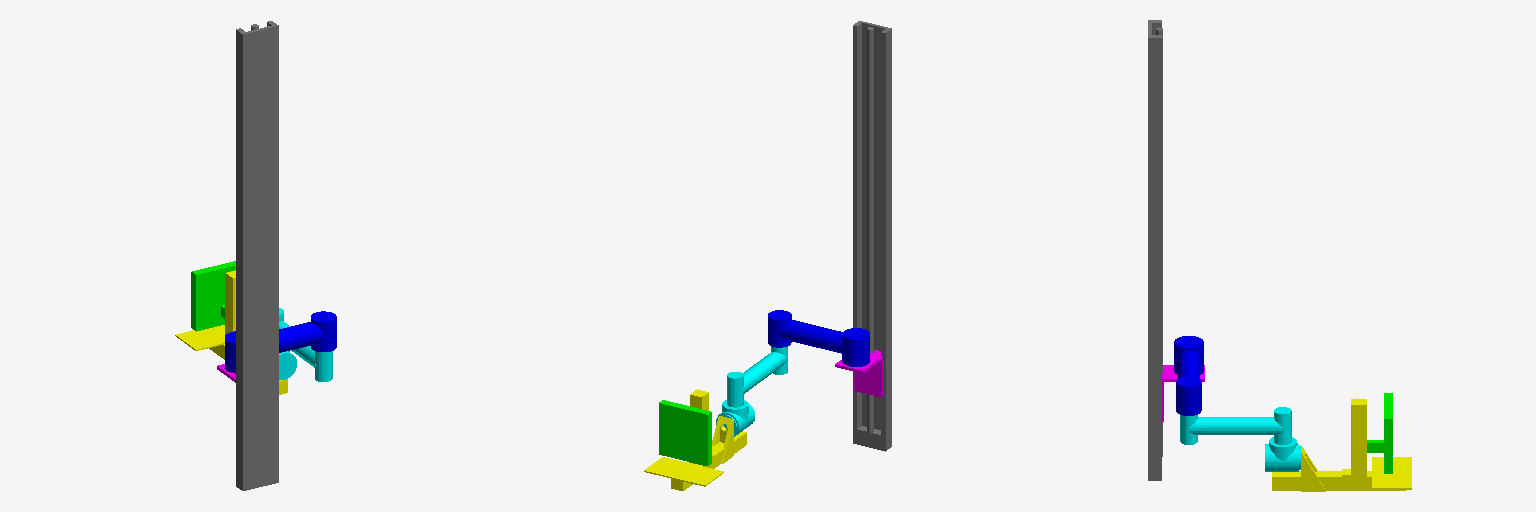
URDF robot description (palletizer):
<?xml version="1.0" encoding="utf-8"?>
<!-- This URDF was automatically created by SolidWorks to URDF Exporter! Originally created by [author] ([email redacted]) 
     Commit Version: 1.5.1-0-g916b5db  Build Version: 1.5.7152.31018
     For more information, please see http://wiki.ros.org/sw_urdf_exporter -->
<robot
  name="palletizer">
  <link
    name="base_link">
    <inertial>
      <origin
        xyz="-1.5354E-14 -0.029385 1.265"
        rpy="0 0 0" />
      <mass
        value="23.744" />
      <inertia
        ixx="14.085"
        ixy="-2.6176E-17"
        ixz="1.0532E-16"
        iyy="14.191"
        iyz="0.011734"
        izz="0.13257" />
    </inertial>
    <visual>
      <origin
        xyz="0 0 0"
        rpy="0 0 0" />
      <geometry>
        <mesh
          filename="package://palletizer/meshes/base_link.STL" />
      </geometry>
      <material
        name="">
        <color
          rgba="0.50196 0.50196 0.50196 1" />
      </material>
    </visual>
    <collision>
      <origin
        xyz="0 0 0"
        rpy="0 0 0" />
      <geometry>
        <mesh
          filename="package://palletizer/meshes/base_link.STL" />
      </geometry>
    </collision>
  </link>
  <link
    name="Link1">
    <inertial>
      <origin
        xyz="1.1082E-17 -0.13376 -0.084234"
        rpy="0 0 0" />
      <mass
        value="3.2712" />
      <inertia
        ixx="0.035893"
        ixy="-4.9727E-18"
        ixz="-2.6146E-19"
        iyy="0.031004"
        iyz="-0.0090466"
        izz="0.023554" />
    </inertial>
    <visual>
      <origin
        xyz="0 0 0"
        rpy="0 0 0" />
      <geometry>
        <mesh
          filename="package://palletizer/meshes/Link1.STL" />
      </geometry>
      <material
        name="">
        <color
          rgba="1 0 1 1" />
      </material>
    </visual>
    <collision>
      <origin
        xyz="0 0 0"
        rpy="0 0 0" />
      <geometry>
        <mesh
          filename="package://palletizer/meshes/Link1.STL" />
      </geometry>
    </collision>
  </link>
  <joint
    name="Joint1"
    type="prismatic">
    <origin
      xyz="0 0.157 0.572"
      rpy="0 0 0" />
    <parent
      link="base_link" />
    <child
      link="Link1" />
    <axis
      xyz="0 0 1" />
    <limit
      lower="-0.24"
      upper="2.7"
      effort="10000"
      velocity="10000" />
  </joint>
  <link
    name="Link2">
    <inertial>
      <origin
        xyz="0.23082 1.3971E-07 -0.081969"
        rpy="0 0 0" />
      <mass
        value="9.9845" />
      <inertia
        ixx="0.030065"
        ixy="-2.7334E-08"
        ixz="-0.00089423"
        iyy="0.43418"
        iyz="1.1355E-07"
        izz="0.42808" />
    </inertial>
    <visual>
      <origin
        xyz="0 0 0"
        rpy="0 0 0" />
      <geometry>
        <mesh
          filename="package://palletizer/meshes/Link2.STL" />
      </geometry>
      <material
        name="">
        <color
          rgba="0 0 1 1" />
      </material>
    </visual>
    <collision>
      <origin
        xyz="0 0 0"
        rpy="0 0 0" />
      <geometry>
        <mesh
          filename="package://palletizer/meshes/Link2.STL" />
      </geometry>
    </collision>
  </link>
  <joint
    name="Joint2"
    type="revolute">
    <origin
      xyz="0 0 0.193"
      rpy="0 0 0" />
    <parent
      link="Link1" />
    <child
      link="Link2" />
    <axis
      xyz="0 0 1" />
    <limit
      lower="-1"
      upper="4.5"
      effort="10000"
      velocity="10000" />
  </joint>
  <link
    name="Link3">
    <inertial>
      <origin
        xyz="-1.3922E-06 0.25 0.090633"
        rpy="0 0 0" />
      <mass
        value="5.825" />
      <inertia
        ixx="0.21651"
        ixy="-4.1151E-08"
        ixz="1.9765E-08"
        iyy="0.01238"
        iyz="-2.2943E-08"
        izz="0.21124" />
    </inertial>
    <visual>
      <origin
        xyz="0 0 0"
        rpy="0 0 0" />
      <geometry>
        <mesh
          filename="package://palletizer/meshes/Link3.STL" />
      </geometry>
      <material
        name="">
        <color
          rgba="0 1 1 1" />
      </material>
    </visual>
    <collision>
      <origin
        xyz="0 0 0"
        rpy="0 0 0" />
      <geometry>
        <mesh
          filename="package://palletizer/meshes/Link3.STL" />
      </geometry>
    </collision>
  </link>
  <joint
    name="Joint3"
    type="revolute">
    <origin
      xyz="0.5 0 -0.3513"
      rpy="0 0 0" />
    <parent
      link="Link2" />
    <child
      link="Link3" />
    <axis
      xyz="0 0 1" />
    <limit
      lower="-5"
      upper="2.5"
      effort="10000"
      velocity="10000" />
  </joint>
  <link
    name="Link4">
    <inertial>
      <origin
        xyz="3.2259E-07 2.542E-05 -0.08553"
        rpy="0 0 0" />
      <mass
        value="3.9922" />
      <inertia
        ixx="0.019006"
        ixy="3.184E-07"
        ixz="1.9269E-07"
        iyy="0.013834"
        iyz="1.0629E-06"
        izz="0.017104" />
    </inertial>
    <visual>
      <origin
        xyz="0 0 0"
        rpy="0 0 0" />
      <geometry>
        <mesh
          filename="package://palletizer/meshes/Link4.STL" />
      </geometry>
      <material
        name="">
        <color
          rgba="0 1 1 1" />
      </material>
    </visual>
    <collision>
      <origin
        xyz="0 0 0"
        rpy="0 0 0" />
      <geometry>
        <mesh
          filename="package://palletizer/meshes/Link4.STL" />
      </geometry>
    </collision>
  </link>
  <joint
    name="Joint4"
    type="revolute">
    <origin
      xyz="0 0.5 0"
      rpy="0 0 0" />
    <parent
      link="Link3" />
    <child
      link="Link4" />
    <axis
      xyz="0 0 1" />
    <limit
      lower="-3.14"
      upper="3.14"
      effort="10000"
      velocity="10000" />
  </joint>
  <link
    name="Link5">
    <inertial>
      <origin
        xyz="5.003E-08 0.40817 -0.1225"
        rpy="0 0 0" />
      <mass
        value="5.8533" />
      <inertia
        ixx="0.27504"
        ixy="4.3397E-08"
        ixz="-3.2907E-08"
        iyy="0.019709"
        iyz="-8.2924E-05"
        izz="0.28021" />
    </inertial>
    <visual>
      <origin
        xyz="0 0 0"
        rpy="0 0 0" />
      <geometry>
        <mesh
          filename="package://palletizer/meshes/Link5.STL" />
      </geometry>
      <material
        name="">
        <color
          rgba="1 1 0 1" />
      </material>
    </visual>
    <collision>
      <origin
        xyz="0 0 0"
        rpy="0 0 0" />
      <geometry>
        <mesh
          filename="package://palletizer/meshes/Link5.STL" />
      </geometry>
    </collision>
  </link>
  <joint
    name="Joint5"
    type="revolute">
    <origin
      xyz="0 -0.0953 -0.096"
      rpy="0 0 0" />
    <parent
      link="Link4" />
    <child
      link="Link5" />
    <axis
      xyz="0 -1 0" />
    <limit
      lower="-3.14"
      upper="3.14"
      effort="10000"
      velocity="10000" />
  </joint>
  <link
    name="Link6">
    <inertial>
      <origin
        xyz="0 -0.00067297 -0.21469"
        rpy="0 0 0" />
      <mass
        value="2.752" />
      <inertia
        ixx="0.043711"
        ixy="-2.0832E-19"
        ixz="-8.4228E-19"
        iyy="0.043534"
        iyz="-0.00038554"
        izz="0.0031127" />
    </inertial>
    <visual>
      <origin
        xyz="0 0 0"
        rpy="0 0 0" />
      <geometry>
        <mesh
          filename="package://palletizer/meshes/Link6.STL" />
      </geometry>
      <material
        name="">
        <color
          rgba="1 1 0 1" />
      </material>
    </visual>
    <collision>
      <origin
        xyz="0 0 0"
        rpy="0 0 0" />
      <geometry>
        <mesh
          filename="package://palletizer/meshes/Link6.STL" />
      </geometry>
    </collision>
  </link>
  <joint
    name="Joint6"
    type="prismatic">
    <origin
      xyz="0 0.50055 0.326"
      rpy="0 0 0" />
    <parent
      link="Link5" />
    <child
      link="Link6" />
    <axis
      xyz="0 1 0" />
    <limit
      lower="-0.1874"
      upper="0.1874"
      effort="10000"
      velocity="10000" />
  </joint>
  <link
    name="Link7">
    <inertial>
      <origin
        xyz="-5.5511E-17 -0.0022501 -0.16289"
        rpy="0 0 0" />
      <mass
        value="5.3195" />
      <inertia
        ixx="0.047249"
        ixy="5.6013E-18"
        ixz="-1.2454E-17"
        iyy="0.089478"
        iyz="-0.00088103"
        izz="0.046275" />
    </inertial>
    <visual>
      <origin
        xyz="0 0 0"
        rpy="0 0 0" />
      <geometry>
        <mesh
          filename="package://palletizer/meshes/Link7.STL" />
      </geometry>
      <material
        name="">
        <color
          rgba="0 1 0 1" />
      </material>
    </visual>
    <collision>
      <origin
        xyz="0 0 0"
        rpy="0 0 0" />
      <geometry>
        <mesh
          filename="package://palletizer/meshes/Link7.STL" />
      </geometry>
    </collision>
  </link>
  <joint
    name="Joint7"
    type="prismatic">
    <origin
      xyz="0 0.158 -0.023"
      rpy="0 0 0" />
    <parent
      link="Link6" />
    <child
      link="Link7" />
    <axis
      xyz="0 0 1" />
    <limit
      lower="-0.0875"
      upper="0.0875"
      effort="10000"
      velocity="10000" />
  </joint>

<link name="dummy"> 
</link>
<joint name="dummy_joint" type="fixed">
     <parent link="dummy"/>
     <child link="base_link"/>
</joint>
</robot>

--- What the picture shows (computed from the rendered views, not written in the file) ---
3 views of the same robot in one strip: view 1: azimuth 30°, elevation 25°; view 2: azimuth 150°, elevation 25°; view 3: azimuth 270°, elevation 25° (orthographic).
Robot: palletizer — 9 links, 8 joints (4 revolute, 3 prismatic, 1 fixed); root link dummy; default pose: all joints at 0.
Visible links, largest first — view 1: base_link, Link2, Link7, Link5, Link3, Link6; view 2: base_link, Link2, Link7, Link5, Link3, Link1, Link4; view 3: base_link, Link5, Link3, Link2, Link6, Link4, Link7.
Boxes of the visible links, x1,y1,x2,y2 form: base_link: [236, 21, 278, 490]; Link2: [225, 311, 336, 373]; Link7: [191, 261, 235, 331]; Link5: [175, 325, 287, 394]; Link3: [279, 308, 332, 381]; Link6: [225, 270, 235, 334]; base_link: [853, 21, 891, 451]; Link2: [768, 310, 869, 366]; Link7: [659, 400, 711, 465]; Link5: [644, 416, 746, 490]; Link3: [727, 346, 787, 407]; Link1: [835, 350, 882, 397]; Link4: [716, 400, 754, 436]; base_link: [1148, 20, 1162, 480]; Link5: [1272, 445, 1411, 491]; Link3: [1180, 407, 1291, 444]; Link2: [1174, 336, 1203, 415]; Link6: [1342, 399, 1366, 476]; Link4: [1265, 437, 1300, 471]; Link7: [1367, 393, 1392, 473].
Bounding box of the posed robot: 0.8075 × 1.41 × 2.6 m (x, y, z).
8 mesh visuals loaded from 8 distinct referenced files (8 binary STL).